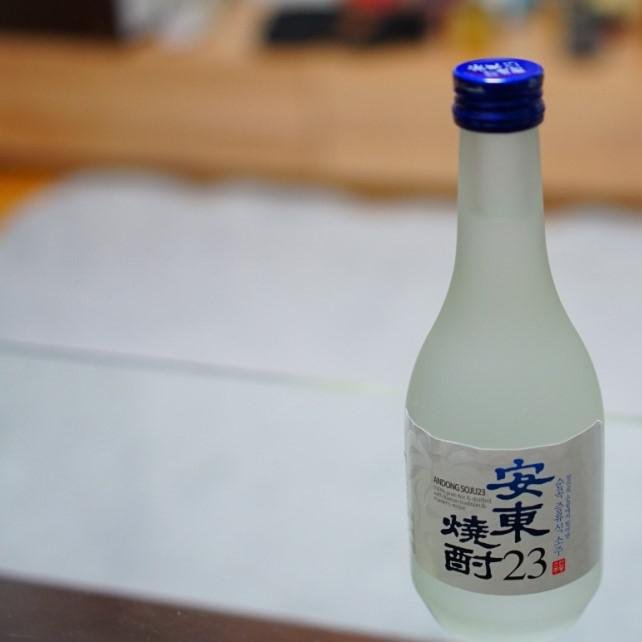soju: (398, 54, 609, 638)
